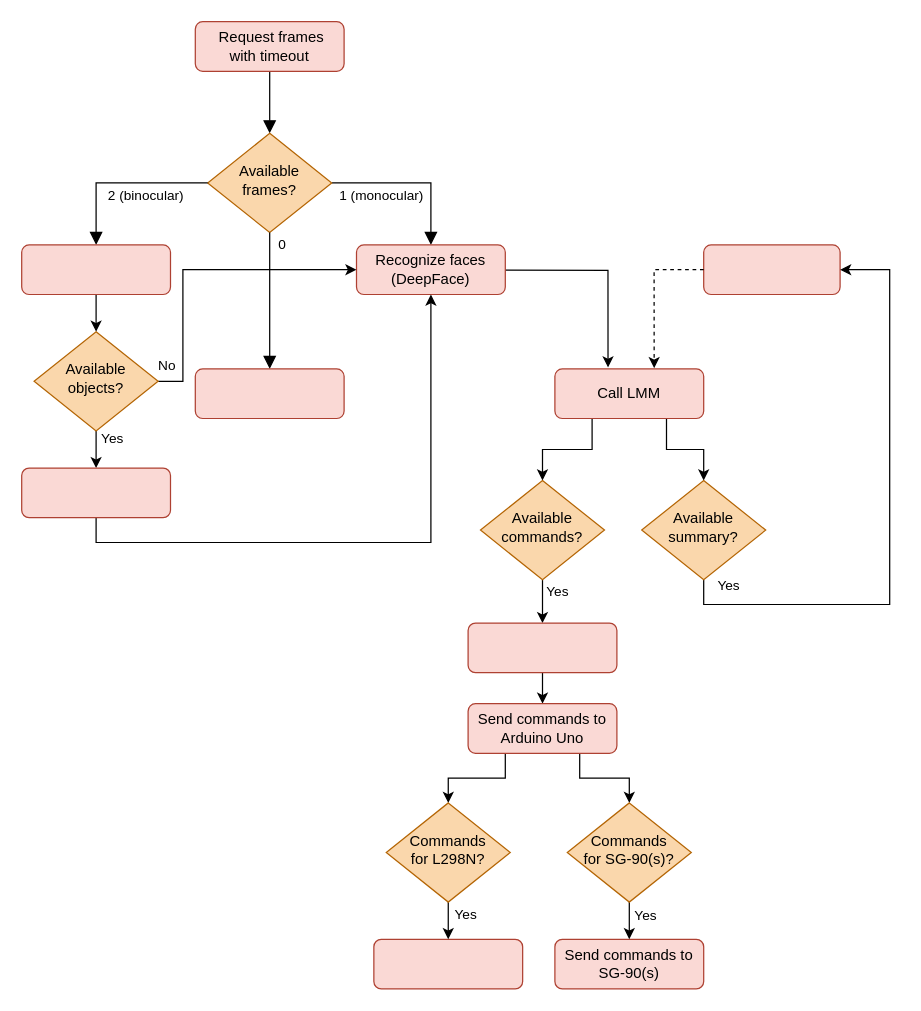
This 921x1011 diagram has some shape labels left out. Here are the shapes that lost their labels. From the top down, the centre of each, then its label:
At (95,269): "Detect objects (YOLOv8)".
At (771,269): "Context for next LMM call".
At (269,393): "Recover cameras".
At (95,492): "Estimate depth (SGBM)".
At (542,647): "Send commands to ESP32-WROVER".
At (448,963): "Send commands to L298N".
